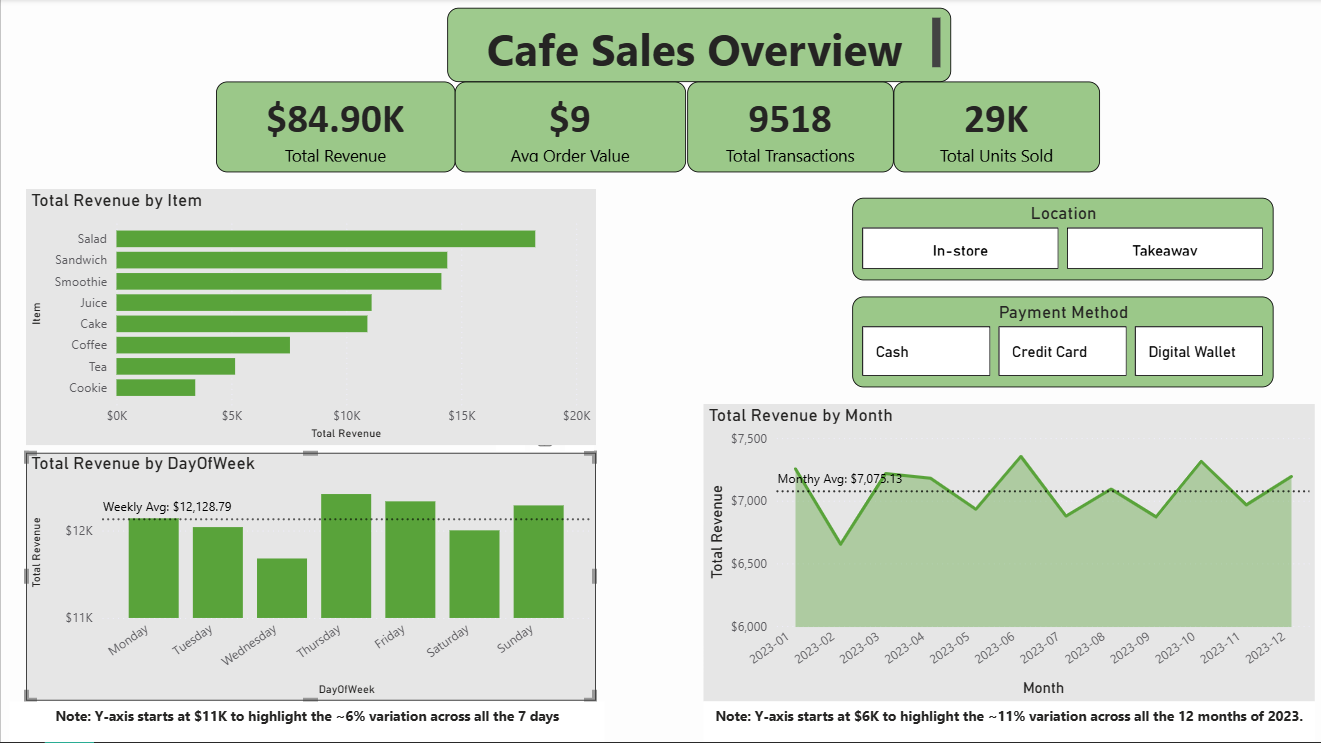

The dashboard page shown, as its layout file describes it:
{"tool":"powerbi","page":{"name":"Page 1","canvas":[1280,720],"ordinal":0},"visuals":[{"type":"card","fields":{"Values":["CafeSales.Total Revenue"]},"box":[208,80,232,88],"z":0},{"type":"card","fields":{"Values":["CafeSales.Avg Order Value"]},"box":[440,80,224,88],"z":1000},{"type":"card","fields":{"Values":["CafeSales.Total Transactions"]},"box":[664,80,200,88],"z":2000},{"type":"card","fields":{"Values":["CafeSales.Total Units Sold"]},"box":[864,80,200,88],"z":3000},{"type":"textbox","box":[432,8,488,72],"z":4000},{"type":"advancedSlicerVisual","fields":{"Values":["CafeSales.Location"]},"box":[824,192,408,80],"z":5000},{"type":"advancedSlicerVisual","fields":{"Values":["CafeSales.Payment Method"]},"box":[824,288,408,88],"z":6000},{"type":"stackedAreaChart","fields":{"Category":["DateTable.Month"],"Y":["CafeSales.Total Revenue"]},"box":[680,392,592,288],"z":7000},{"type":"columnChart","fields":{"Category":["DateTable.DayOfWeek"],"Y":["CafeSales.Total Revenue"]},"box":[24,440,552,240],"z":8000},{"type":"barChart","fields":{"Category":["CafeSales.Item"],"Y":["CafeSales.Total Revenue"]},"box":[24,184,552,248],"z":9000},{"type":"textbox","box":[8,680,576,40],"z":11000},{"type":"textbox","box":[680,680,592,40],"z":12000}]}

Visuals, with their boxes in screenshot pixels (x1, y1, x2, y2), scaled from the page's 1280x720 canvas onto the 1321x743 screenshot:
card - CafeSales.Total Revenue: 215,83,454,173
card - CafeSales.Avg Order Value: 454,83,685,173
card - CafeSales.Total Transactions: 685,83,892,173
card - CafeSales.Total Units Sold: 892,83,1098,173
textbox: 446,8,949,83
advancedSlicerVisual - CafeSales.Location: 850,198,1271,281
advancedSlicerVisual - CafeSales.Payment Method: 850,297,1271,388
stackedAreaChart - DateTable.Month x CafeSales.Total Revenue: 702,405,1313,702
columnChart - DateTable.DayOfWeek x CafeSales.Total Revenue: 25,454,594,702
barChart - CafeSales.Item x CafeSales.Total Revenue: 25,190,594,446
textbox: 8,702,603,742
textbox: 702,702,1313,742
